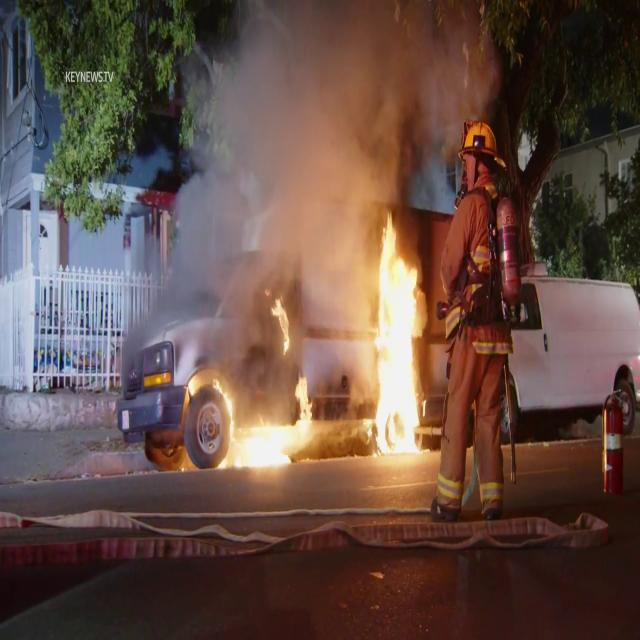Fire: (364, 210, 432, 458), (209, 364, 318, 472)
Smoke: (137, 0, 493, 314)
